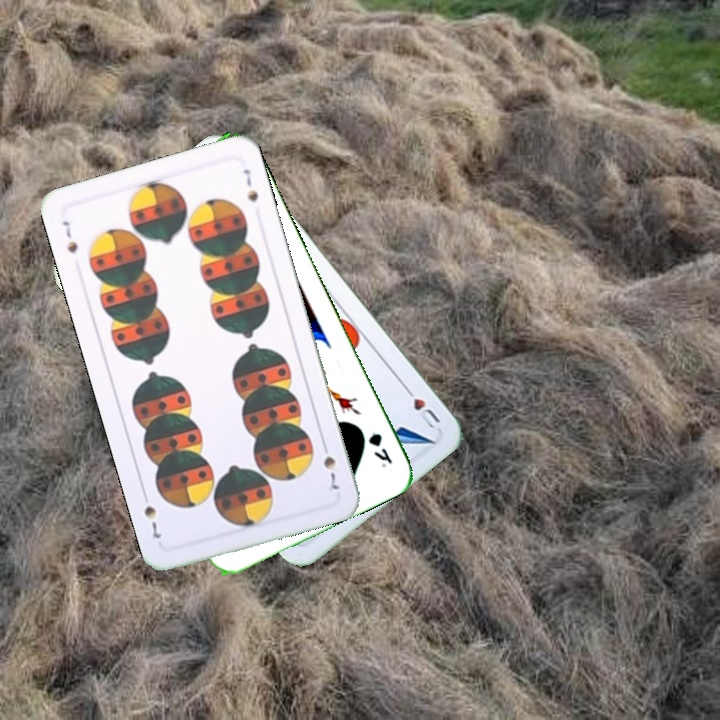GK: (364, 429, 395, 471)
HU: (399, 381, 443, 433)
S7: (318, 437, 342, 495), (58, 216, 80, 256)
